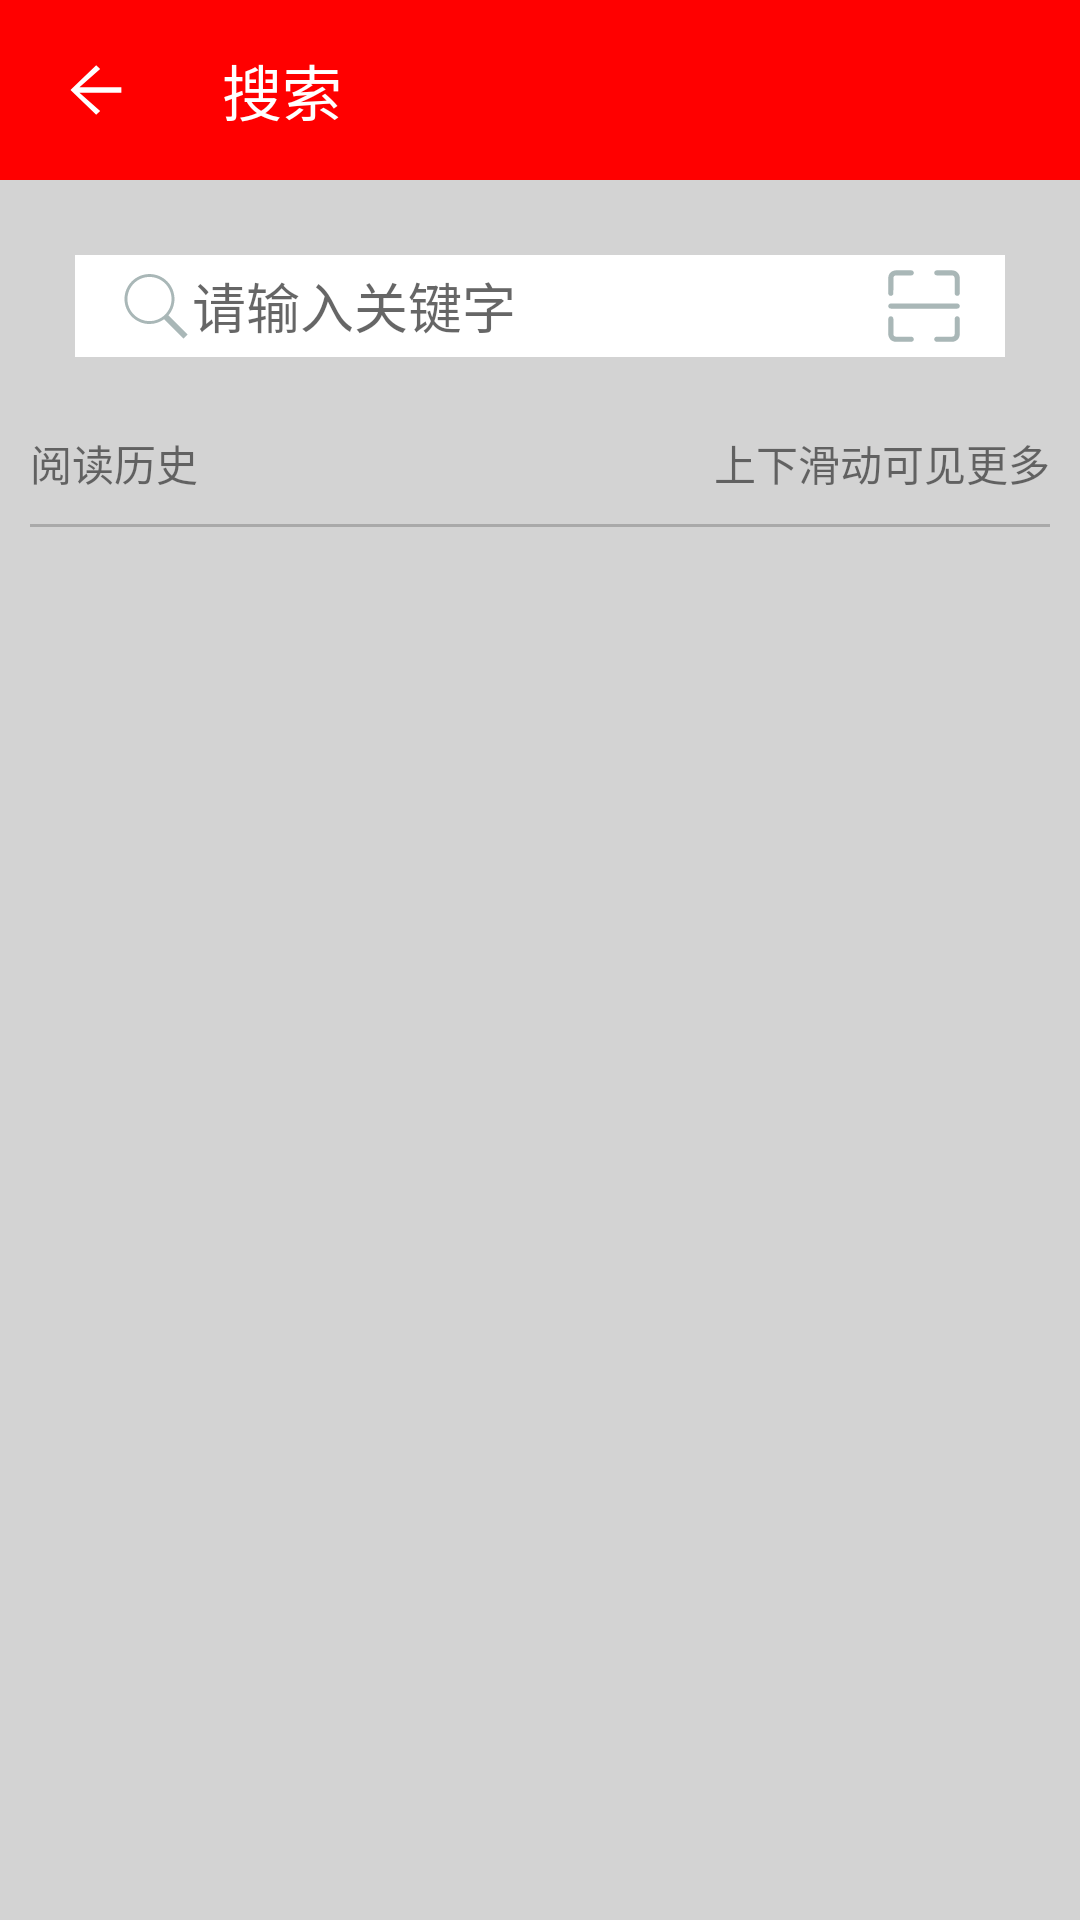

Named icons in this screenshot (1080*1920) and their bounding boxes, (x1, y1, x2, y2):
back: (70, 65, 122, 115)
scan: (888, 270, 960, 342)
search: (124, 274, 188, 339)
